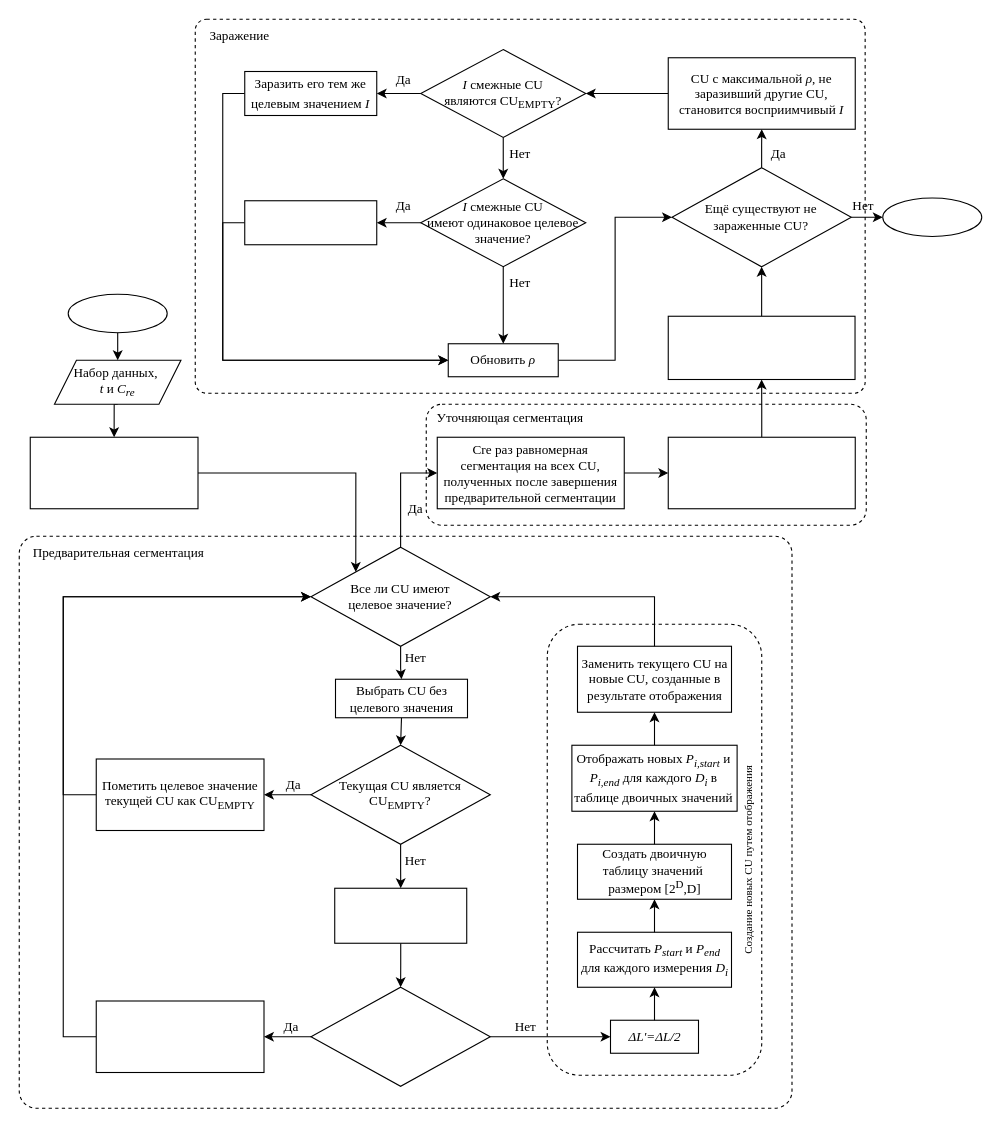
Image size: 1001x1128. Some labels were removed from this diagram. The box of each missing label's shape, as (x1, y1, x2, y2) in pixels:
Инициализация (вычисление D, P start , ΔL и создание массива для CU): (29, 436, 198, 509)
Конец: (882, 197, 982, 237)
Начало: (67, 293, 167, 333)
Отметить как инфицированного S: (244, 200, 377, 245)
Пометить целевое значение полученных новых пустых CU как CU EMPTY: (667, 436, 855, 509)
Пометить целевое значение текущей CU как y x: (95, 1000, 264, 1072)
Рассчитать p и y x для текущей CU: (334, 887, 467, 943)
Рассчитать силу заражения ρ для всех блоков кодирования: (667, 315, 855, 380)
Текущая CU t ≤ p ?: (310, 986, 490, 1086)
